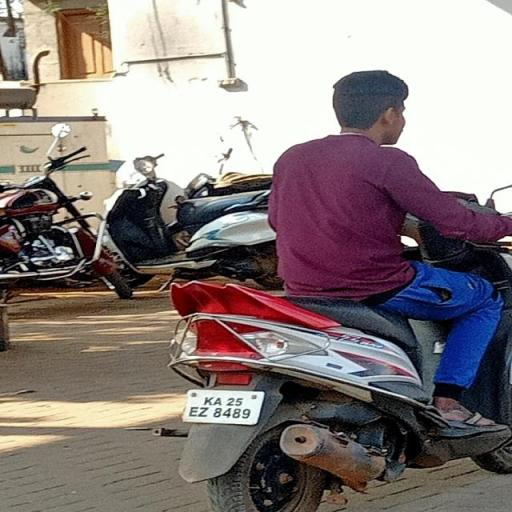bike: (161, 64, 512, 512)
numberplate: (179, 383, 266, 433)
withouthelmet: (336, 72, 405, 134)
